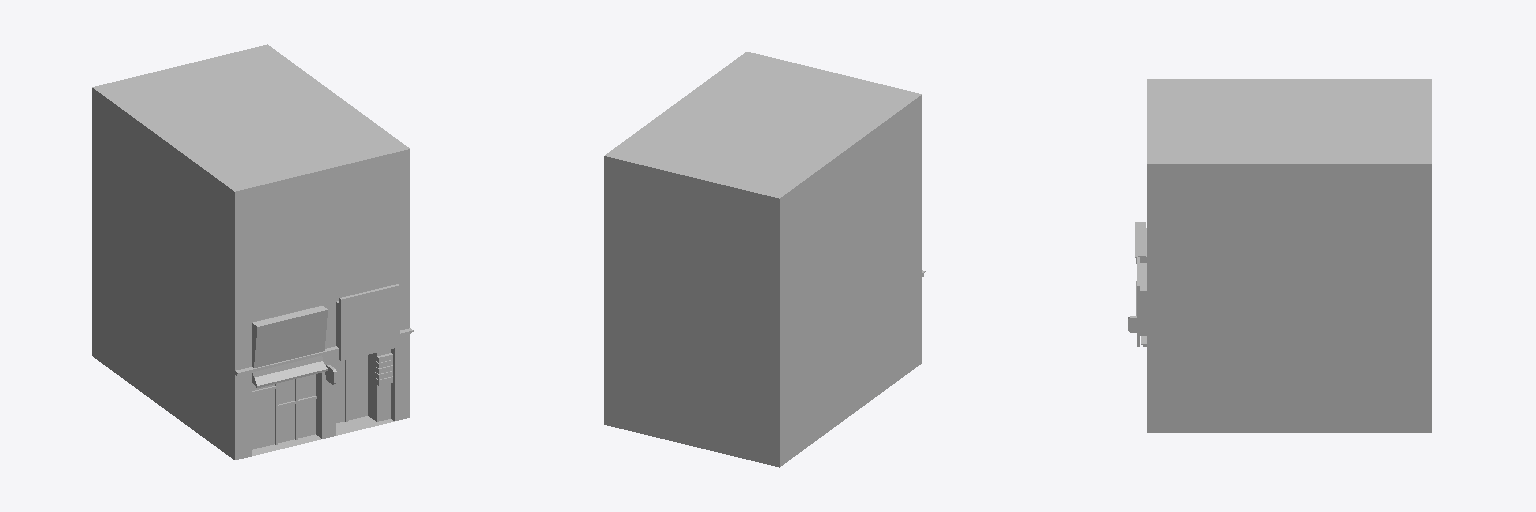
Rendered from Building 2.obj.
3 renders of one model, left to right at view 1: azimuth 30°, elevation 25°; view 2: azimuth 150°, elevation 25°; view 3: azimuth 270°, elevation 25°, orthographic.
Visible parts, largest first — view 1: Cube_(9); view 2: Cube_(9); view 3: Cube_(9).
Boxes of the visible parts, box(x1,y1,x2,y2) form: Cube_(9): box(92, 44, 413, 459); Cube_(9): box(604, 52, 925, 467); Cube_(9): box(1128, 79, 1431, 432).
Size of the model in its own units: 11.65 by 17.05 by 17.5.